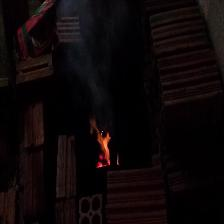fire: (90, 132, 116, 168)
